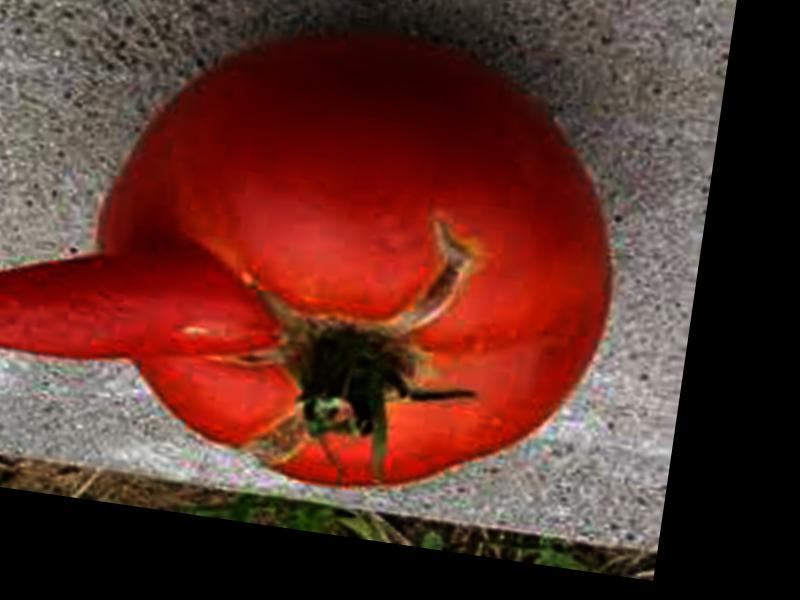Tomato: (66, 13, 645, 523)
